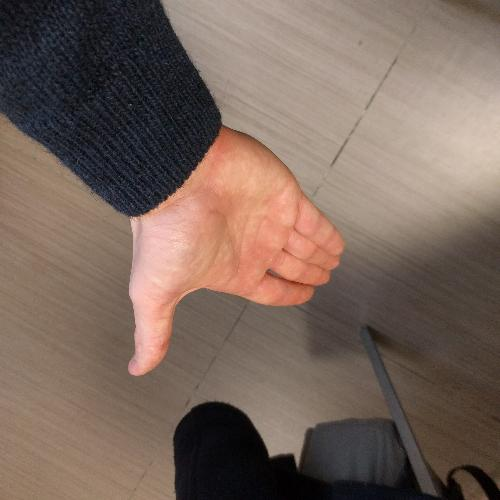paper: (122, 120, 351, 380)
